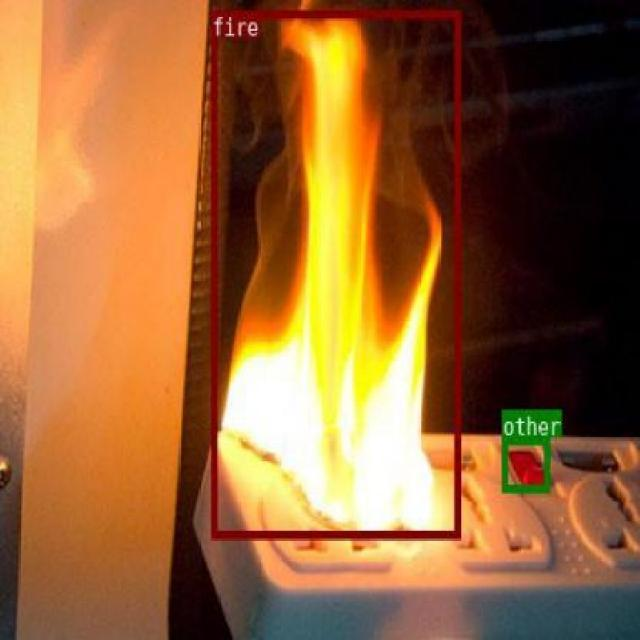fire: (211, 10, 458, 538)
